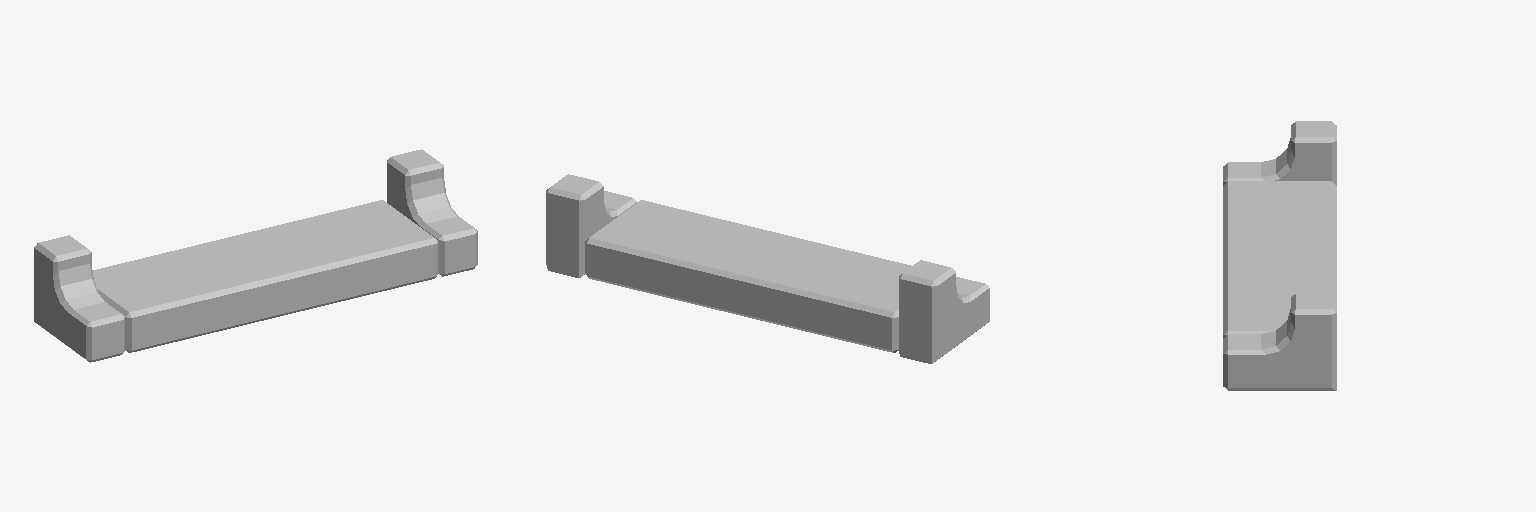
Rendered from shelf_B_large.obj.
3 views of the same model, side by side, from view 1: azimuth 30°, elevation 25°; view 2: azimuth 150°, elevation 25°; view 3: azimuth 270°, elevation 25° (orthographic).
Visible parts, largest first — view 1: shelf_B_large_Cube.029; view 2: shelf_B_large_Cube.029; view 3: shelf_B_large_Cube.029.
Boxes of the visible parts, <box> form: shelf_B_large_Cube.029: <box>34,149,477,362</box>; shelf_B_large_Cube.029: <box>546,174,989,363</box>; shelf_B_large_Cube.029: <box>1223,121,1336,390</box>.
Bounding box in the file's own units: 2 × 0.4 × 0.5.